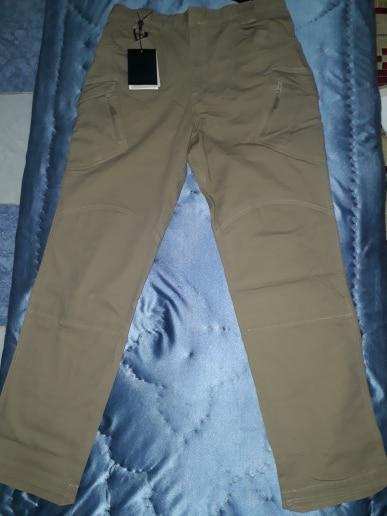pants: (11, 3, 387, 510)
